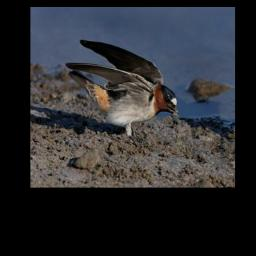Swallow: (65, 39, 178, 147)
